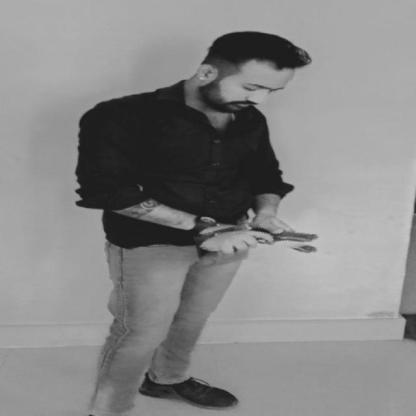handgun: (194, 214, 324, 263)
